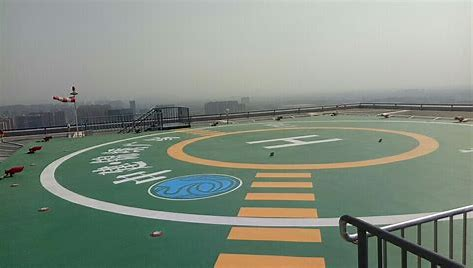H: (244, 134, 344, 148)
